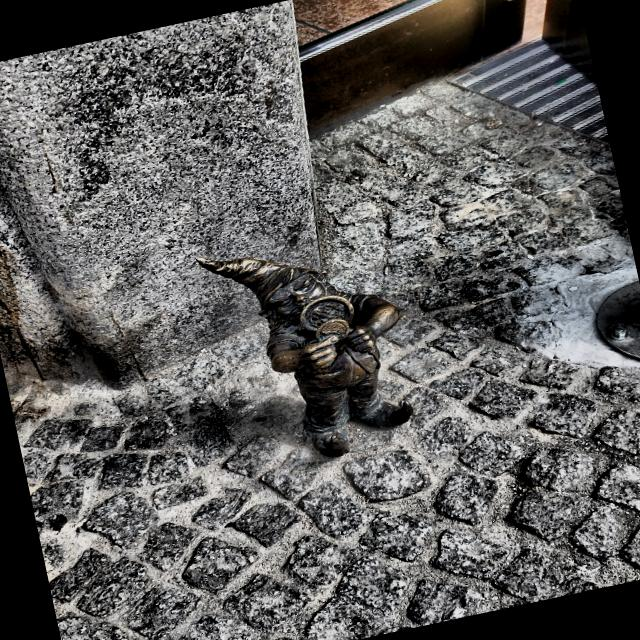Kolekcjoner: (196, 257, 413, 457)
